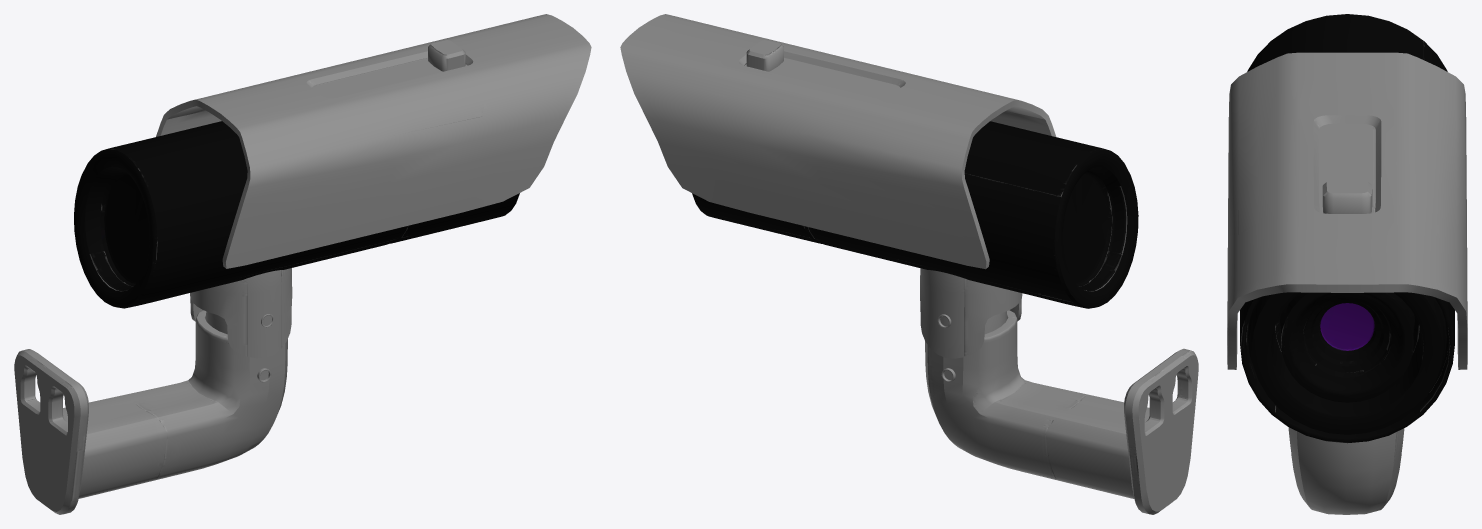
Rendered from camera.glb.
The picture shows the model from 3 angles, left to right: view 1: azimuth 30°, elevation 25°; view 2: azimuth 150°, elevation 25°; view 3: azimuth 270°, elevation 25°; orthographic projection. The views are drawn at different scales.
Visible parts, largest first — view 1: Cylinder.003; view 2: Cylinder.003; view 3: Cylinder.003.
Part boxes in pixels (<box>): Cylinder.003: <box>14,14,591,514</box>; Cylinder.003: <box>620,14,1198,514</box>; Cylinder.003: <box>1227,14,1467,514</box>.
Size of the model in its own units: 11.34 by 7.43 by 3.32.
Materials: 1 (1 with a texture image).
